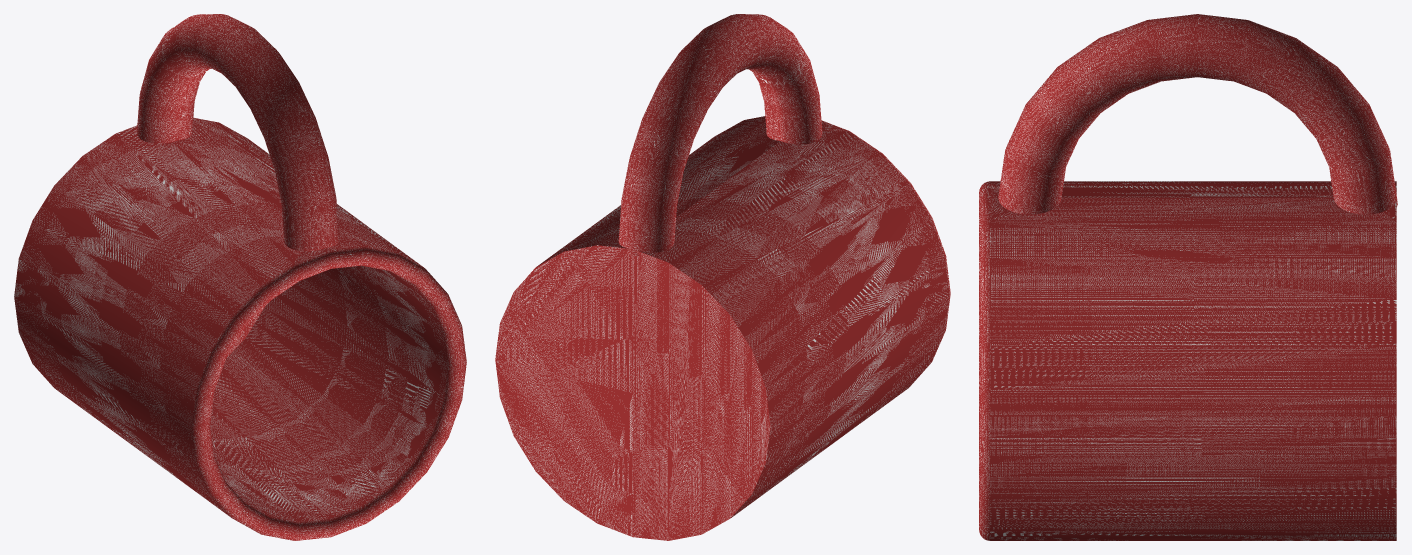
The model's file is model_align.obj.
3 renders of one model, left to right at view 1: azimuth 30°, elevation 25°; view 2: azimuth 150°, elevation 25°; view 3: azimuth 270°, elevation 25°, orthographic. The views are drawn at different scales.
Parts seen in each view (by area): view 1: mesh1_mesh1-geometry; view 2: mesh1_mesh1-geometry; view 3: mesh1_mesh1-geometry.
Part boxes in pixels (x1,y1,x2,y2): mesh1_mesh1-geometry: [14, 14, 466, 540]; mesh1_mesh1-geometry: [495, 14, 950, 540]; mesh1_mesh1-geometry: [979, 14, 1397, 540].
Bounding box in the file's own units: 0.0757 × 0.1176 × 0.0879.
